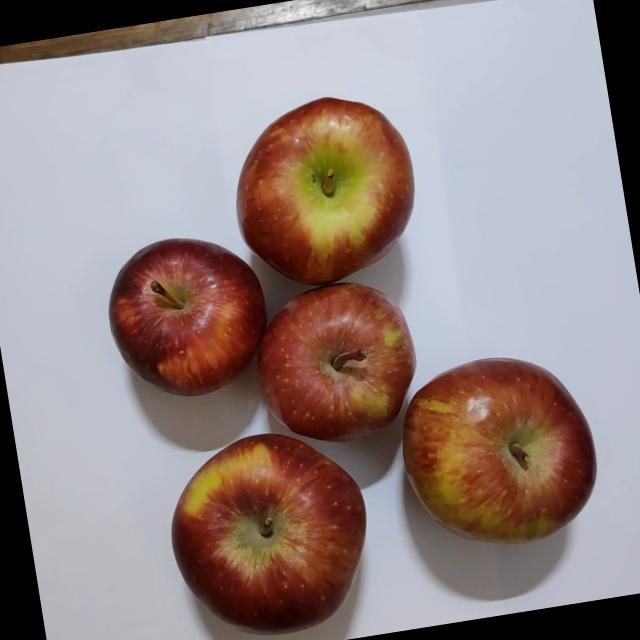apple: (384, 341, 620, 568), (157, 417, 393, 640), (220, 83, 434, 304), (244, 272, 436, 460), (98, 226, 282, 414)
